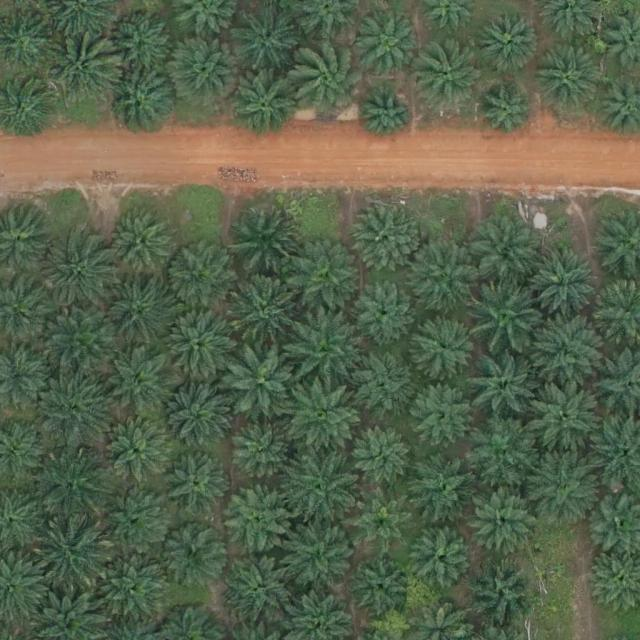Healthy: (291, 43, 369, 122), (531, 249, 602, 320), (531, 380, 602, 451), (472, 280, 543, 351), (291, 380, 362, 451), (94, 555, 165, 626), (47, 307, 118, 378), (231, 4, 302, 75), (468, 417, 538, 488), (469, 351, 539, 422), (412, 242, 482, 313), (465, 556, 535, 627), (352, 206, 422, 277), (288, 244, 358, 315), (290, 316, 360, 387), (288, 523, 358, 594), (220, 482, 290, 553), (227, 345, 297, 416), (233, 204, 303, 275), (165, 307, 236, 377), (161, 452, 232, 522), (158, 519, 228, 590), (101, 485, 171, 556), (106, 416, 176, 487), (107, 348, 177, 419), (101, 279, 172, 349), (44, 237, 114, 308), (35, 372, 105, 443), (532, 44, 602, 115), (417, 41, 487, 112), (229, 71, 299, 142), (106, 67, 176, 138), (529, 320, 599, 390), (527, 454, 597, 524), (472, 492, 542, 562), (471, 219, 541, 289), (409, 452, 479, 522), (346, 349, 416, 419), (287, 454, 357, 524), (225, 552, 295, 622), (229, 274, 299, 344), (165, 242, 235, 312), (162, 385, 232, 455), (39, 450, 109, 520), (172, 39, 242, 109), (46, 35, 116, 105), (352, 489, 415, 552), (349, 423, 412, 486), (352, 278, 415, 341), (107, 213, 170, 276), (414, 314, 476, 377), (414, 531, 476, 594), (353, 553, 415, 616), (480, 11, 542, 74), (359, 16, 422, 78), (413, 384, 475, 446), (230, 420, 292, 482), (114, 7, 176, 69), (481, 88, 536, 143), (360, 88, 414, 143)
Yellow: (40, 520, 110, 591)
